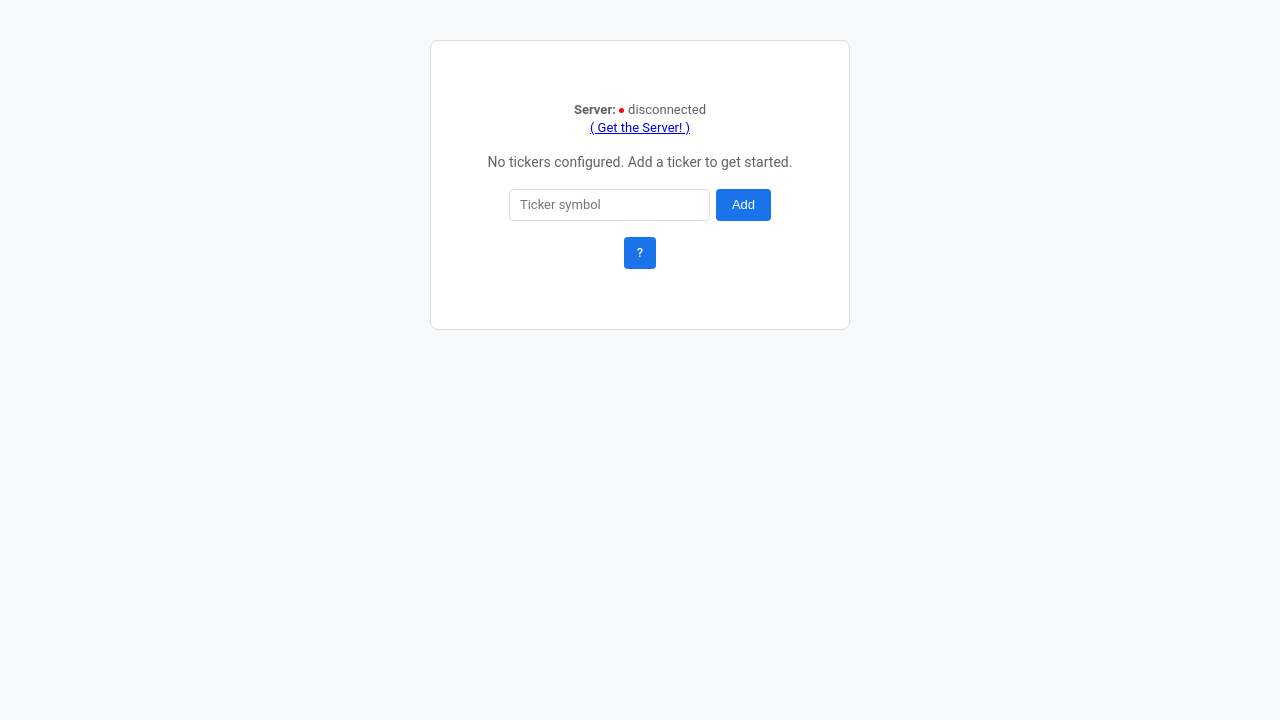
Test: Stox Integration Tests › Help dialog › opens help dialog from empty state
Click the button named "Help". click: (640, 253)
box: [624,237,656,269]
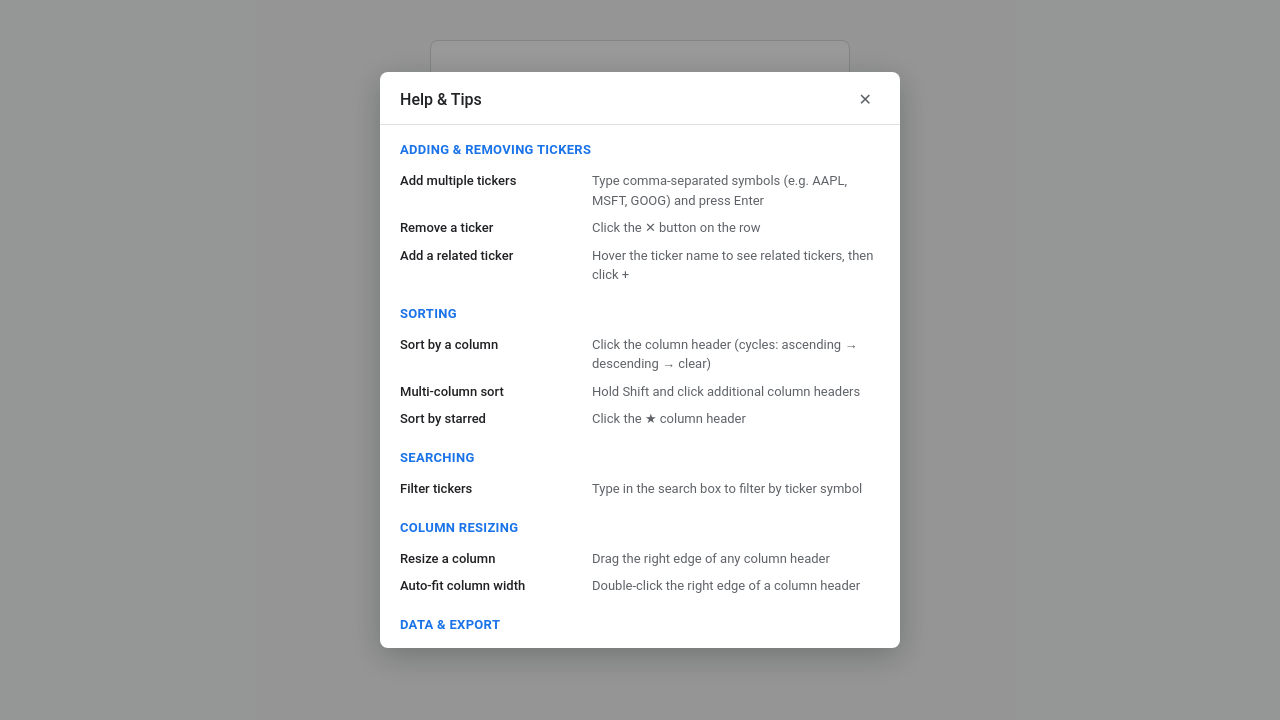
expect the dialog named "Help and shortcuts" is shown: met, box [380,72,900,648]
